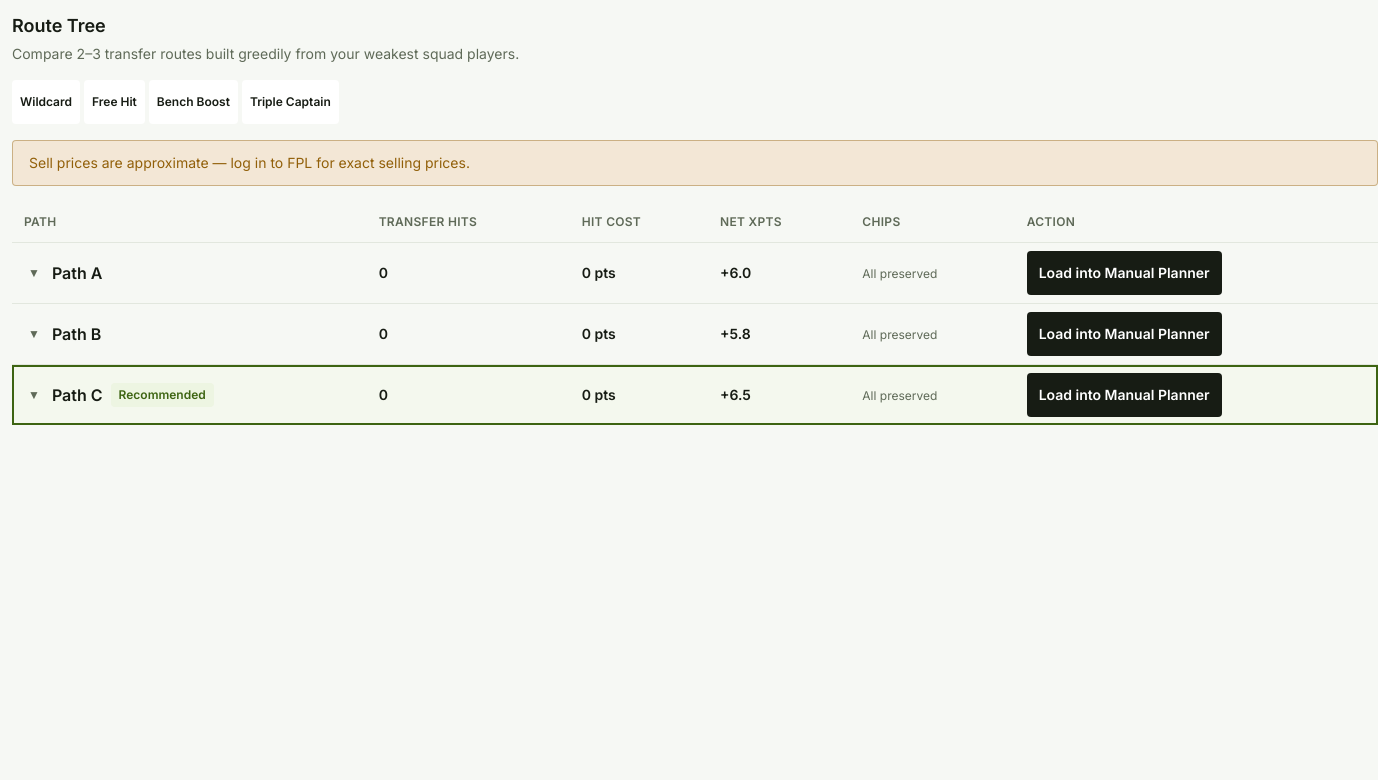
Scenario: expand breakdown — TRT-03 › breakdown table contains a nested table with GW column header when expanded
The image size is (1378, 780).
Step 1. Click the button with test id "path-expand-0" → (34, 273), box [24,251,44,295]
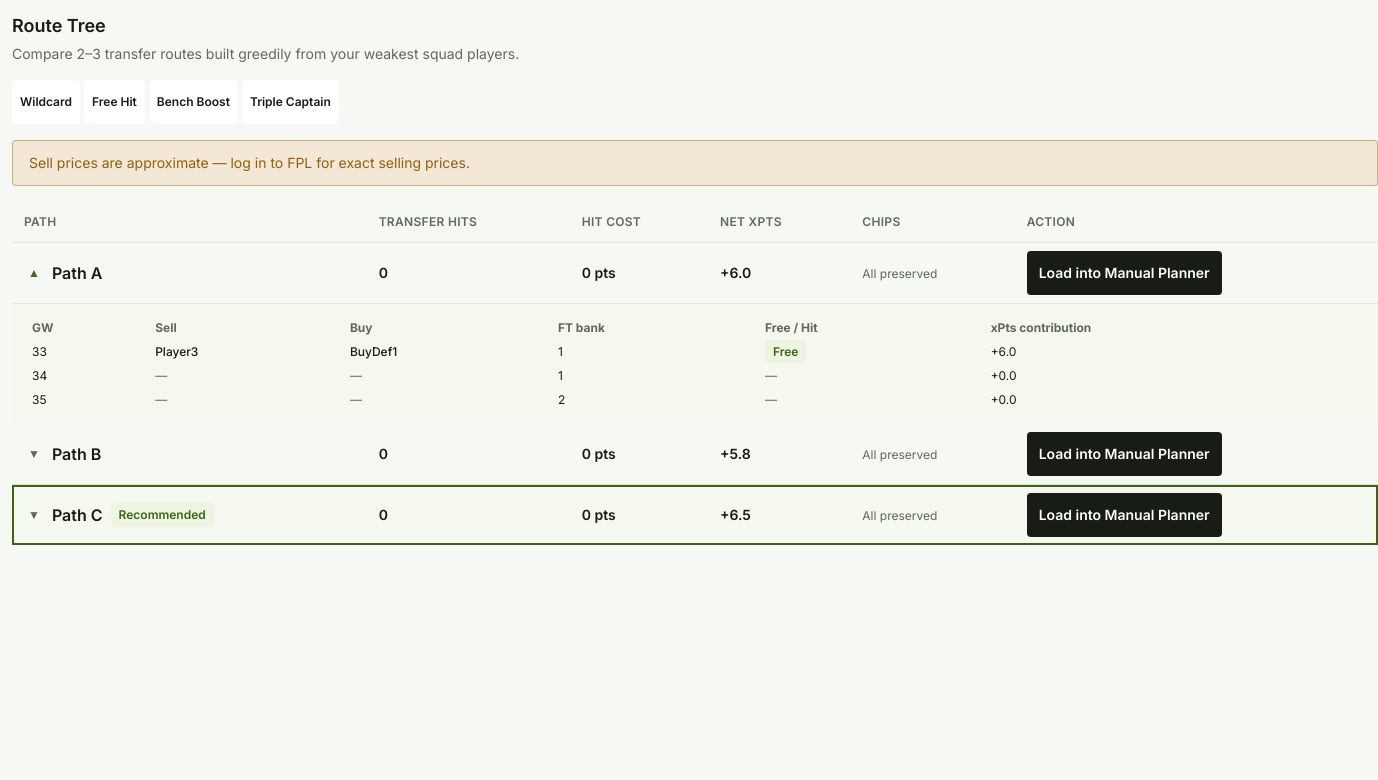
Expected: the row with test id "path-breakdown-0" is shown, [12,304,1377,424]
